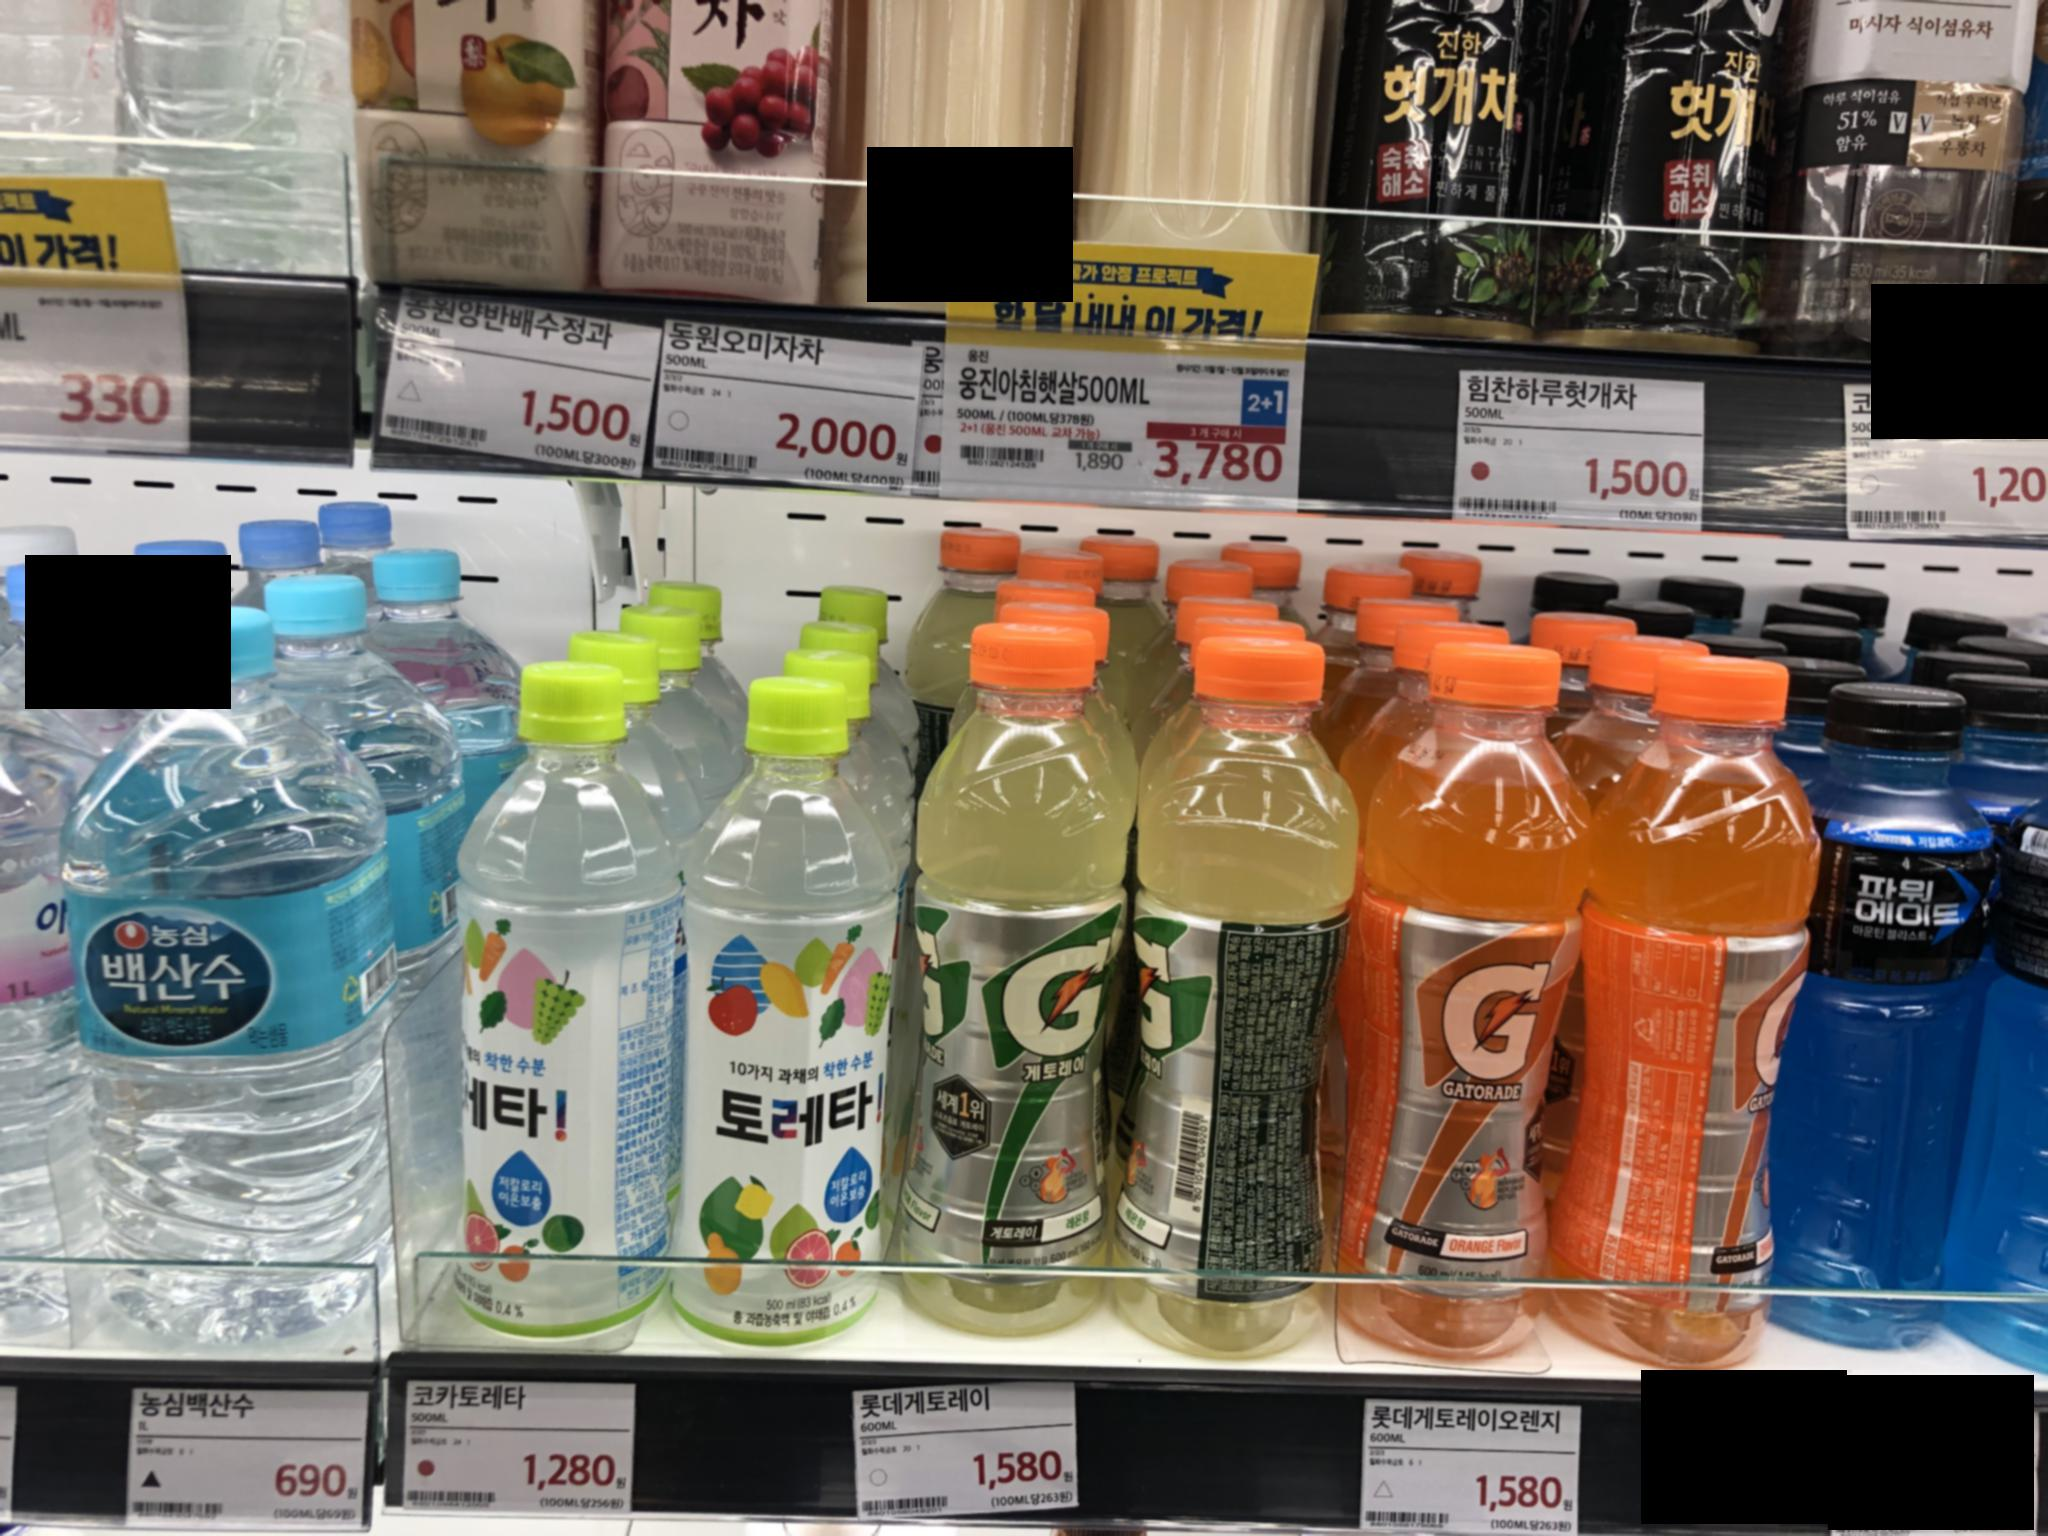gatorade_lemon: (880, 620, 1106, 1326), (1145, 608, 1353, 1346)
powerade_mountainblast: (1790, 665, 1982, 1368)
toreta: (434, 660, 679, 1323), (687, 660, 895, 1346)
